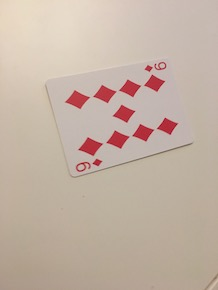NineOfDiamonds: (43, 54, 201, 179)
